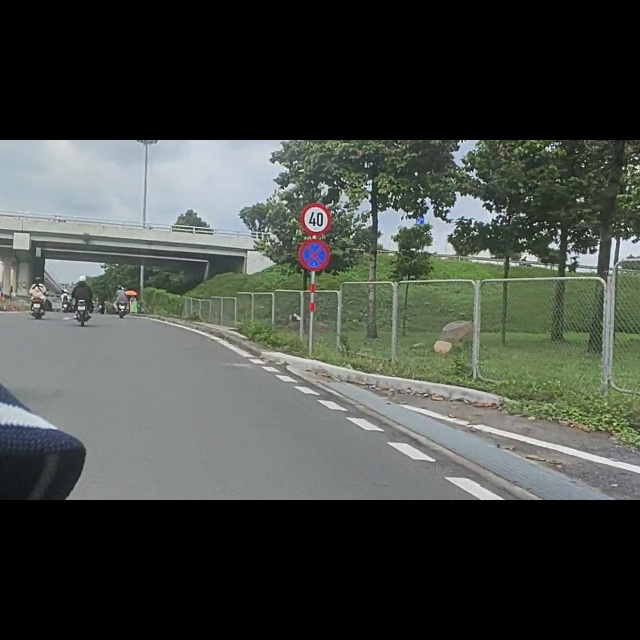bien_cam: (301, 110, 331, 169), (299, 177, 330, 233)
